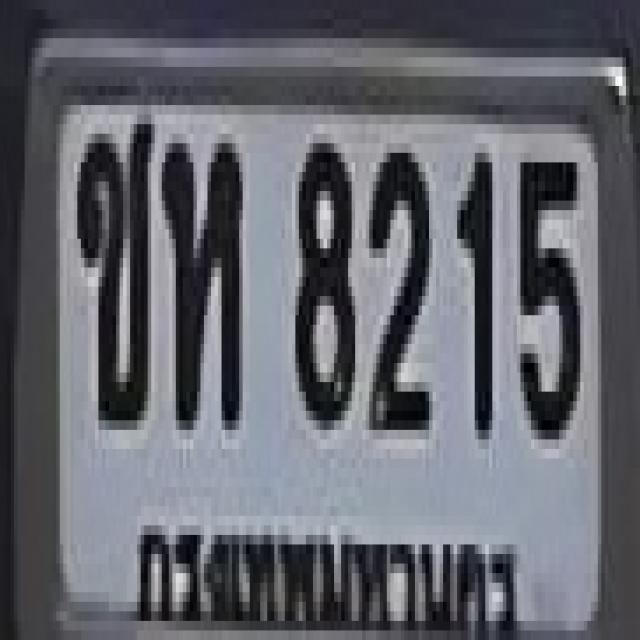1: (454, 143, 488, 430)
2: (366, 148, 426, 425)
5: (517, 153, 577, 430)
8: (292, 134, 352, 420)
A10: (74, 105, 151, 420)
A41: (162, 134, 239, 420)
BKK: (129, 478, 529, 640)
